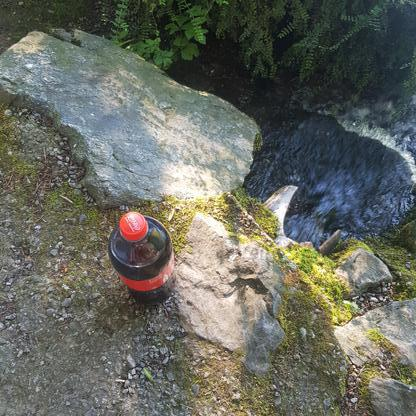coca-cola: (106, 211, 177, 307)
